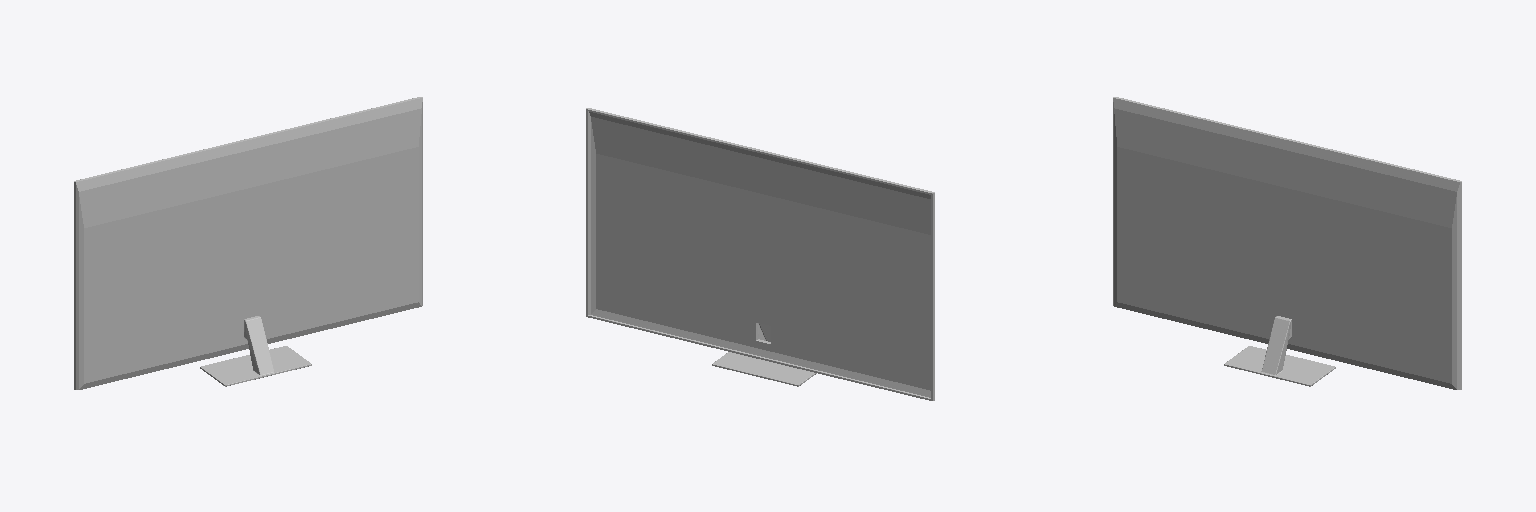
3 renders of one model, left to right at view 1: azimuth 30°, elevation 25°; view 2: azimuth 150°, elevation 25°; view 3: azimuth 330°, elevation 25°, orthographic.
Visible parts, largest first — view 1: TV; view 2: TV; view 3: TV.
Boxes of the visible parts, <box> form: TV: <box>74,97,422,389</box>; TV: <box>586,108,934,400</box>; TV: <box>1113,97,1461,389</box>.
Bounding box in the file's own units: 0.9176 × 0.5609 × 0.1169.